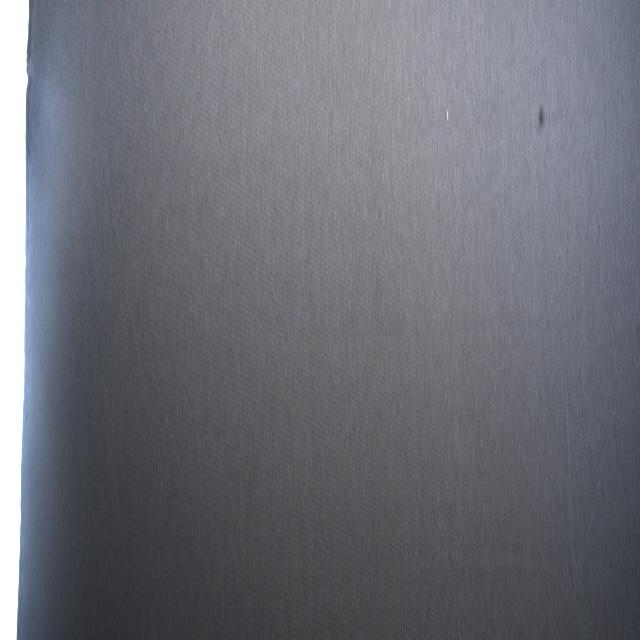crease: (99, 149, 187, 486), (302, 261, 325, 640), (446, 539, 550, 604)
